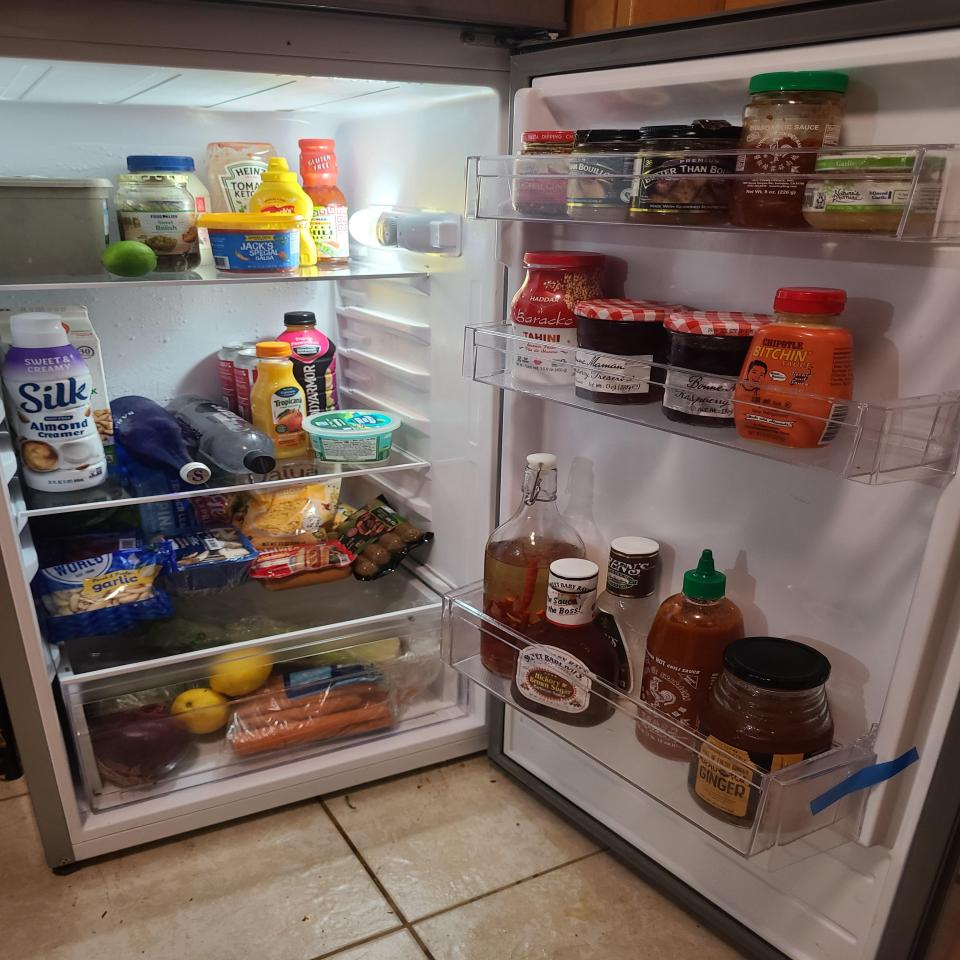Limón: (211, 648, 269, 694), (173, 689, 228, 732)
Zanahoria: (233, 664, 403, 750)
